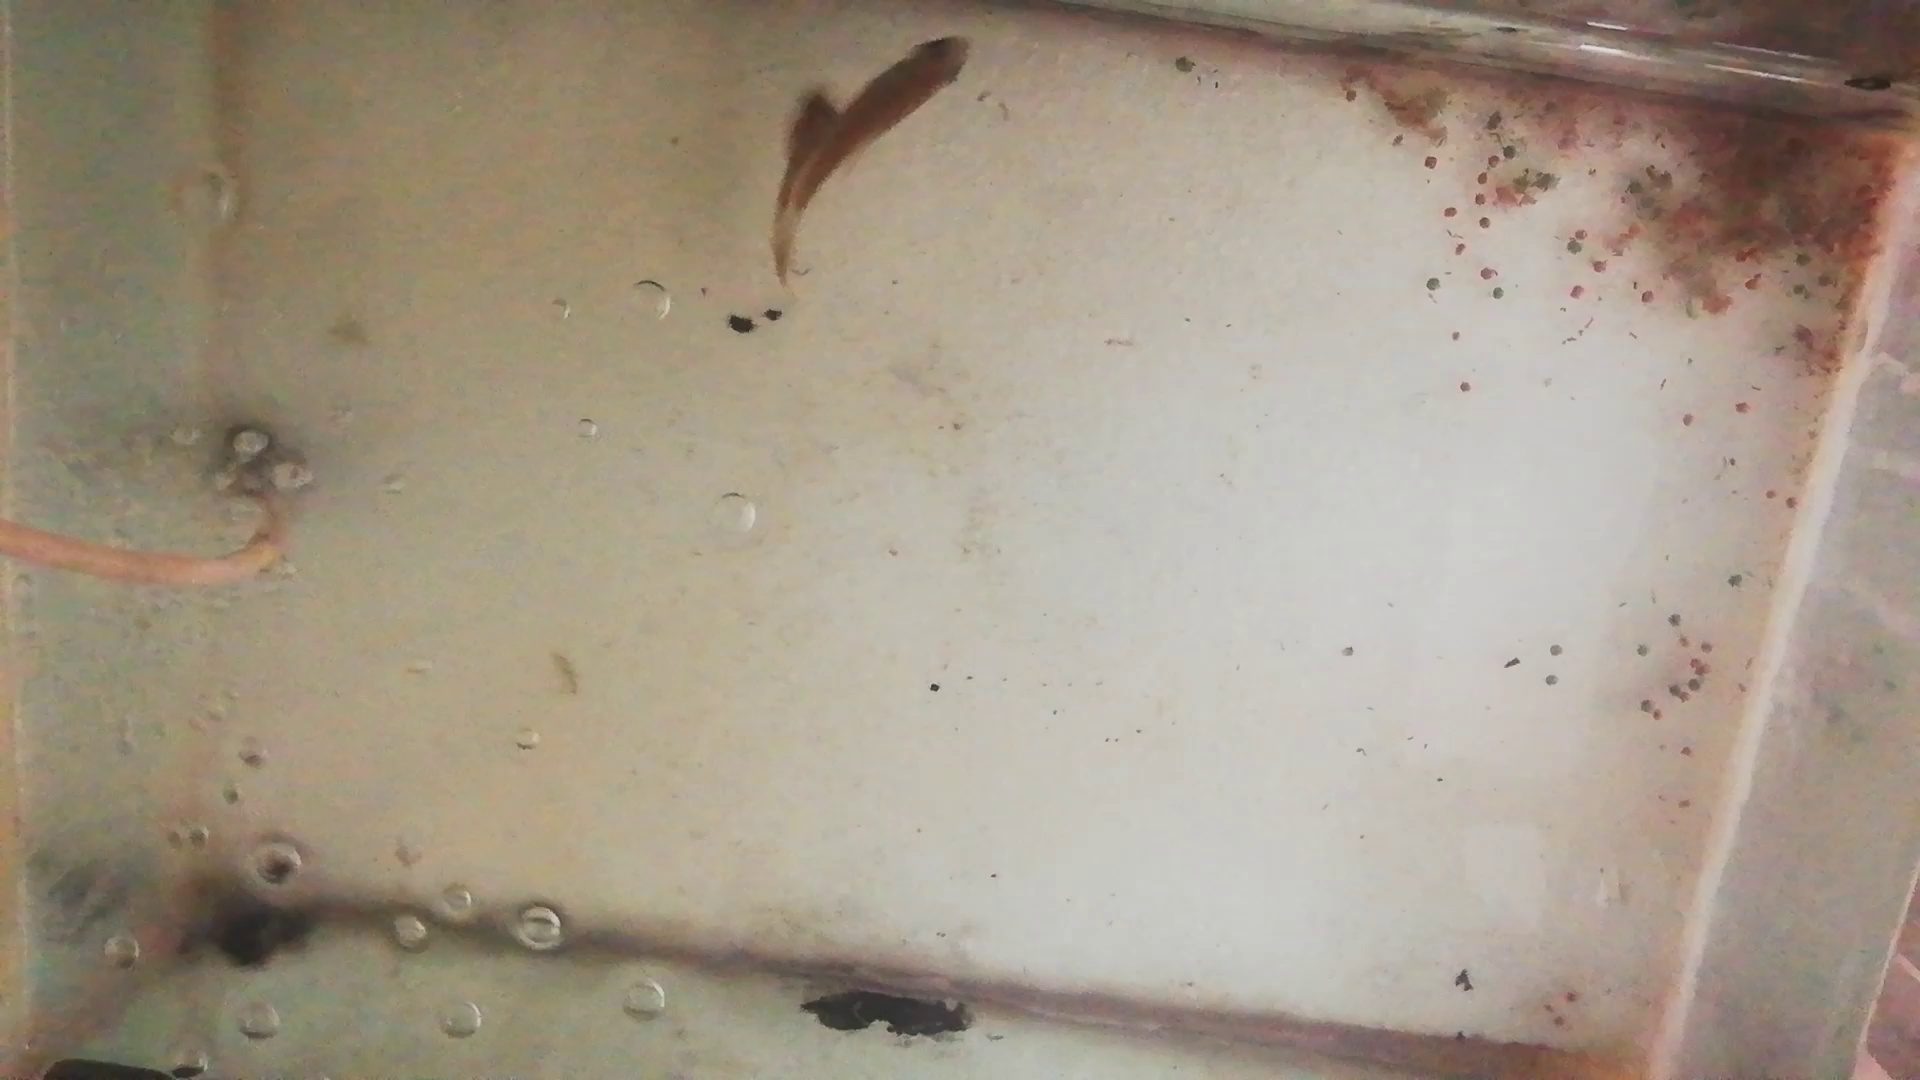fish: (793, 36, 976, 204), (773, 90, 833, 305)
